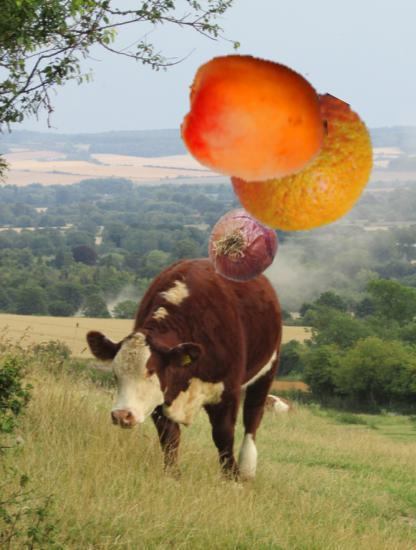Apricot: (180, 44, 327, 191)
Mandarine: (227, 89, 375, 237)
Onion: (204, 207, 281, 284)
